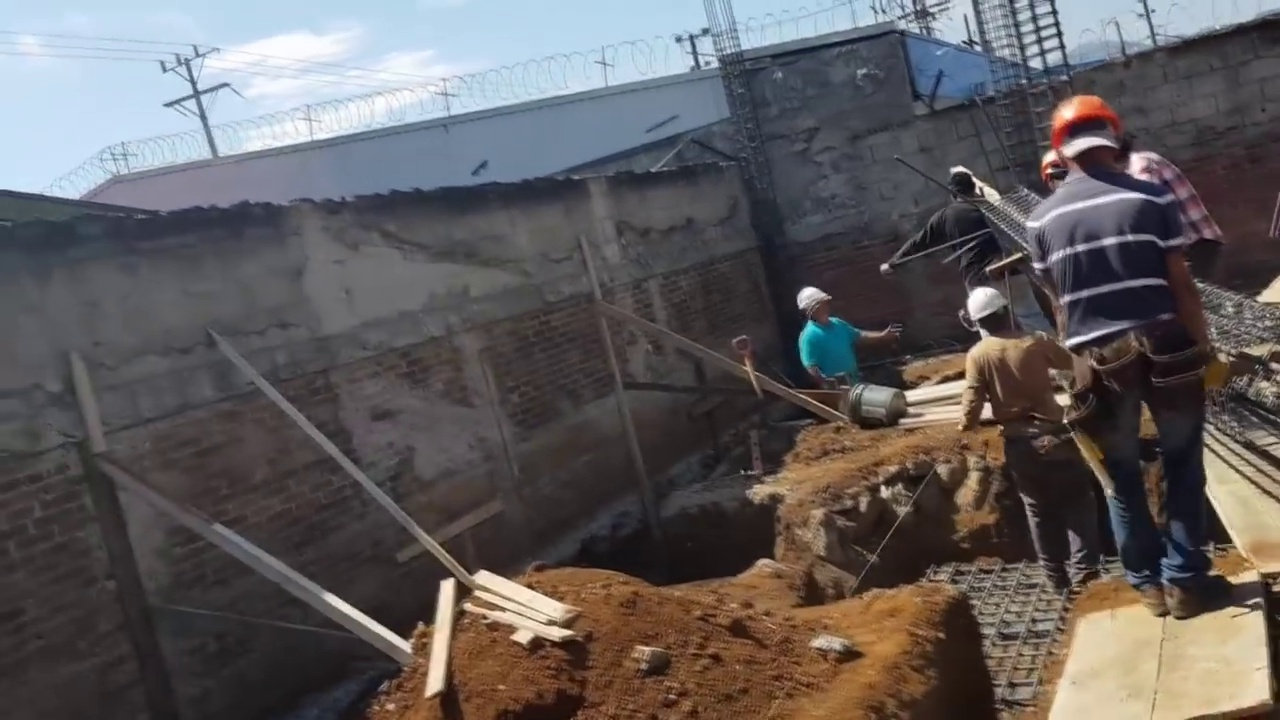helmet: (1056, 93, 1126, 164), (961, 284, 1013, 325), (1039, 150, 1062, 179), (803, 286, 828, 302)
helmet-off: (948, 168, 982, 205)
helmet-on: (1052, 91, 1127, 191), (960, 289, 1017, 340), (799, 284, 836, 324), (1038, 150, 1067, 192)
person: (1053, 88, 1228, 570), (953, 289, 1123, 593), (891, 170, 1011, 360), (1121, 140, 1228, 273), (801, 285, 900, 386)
